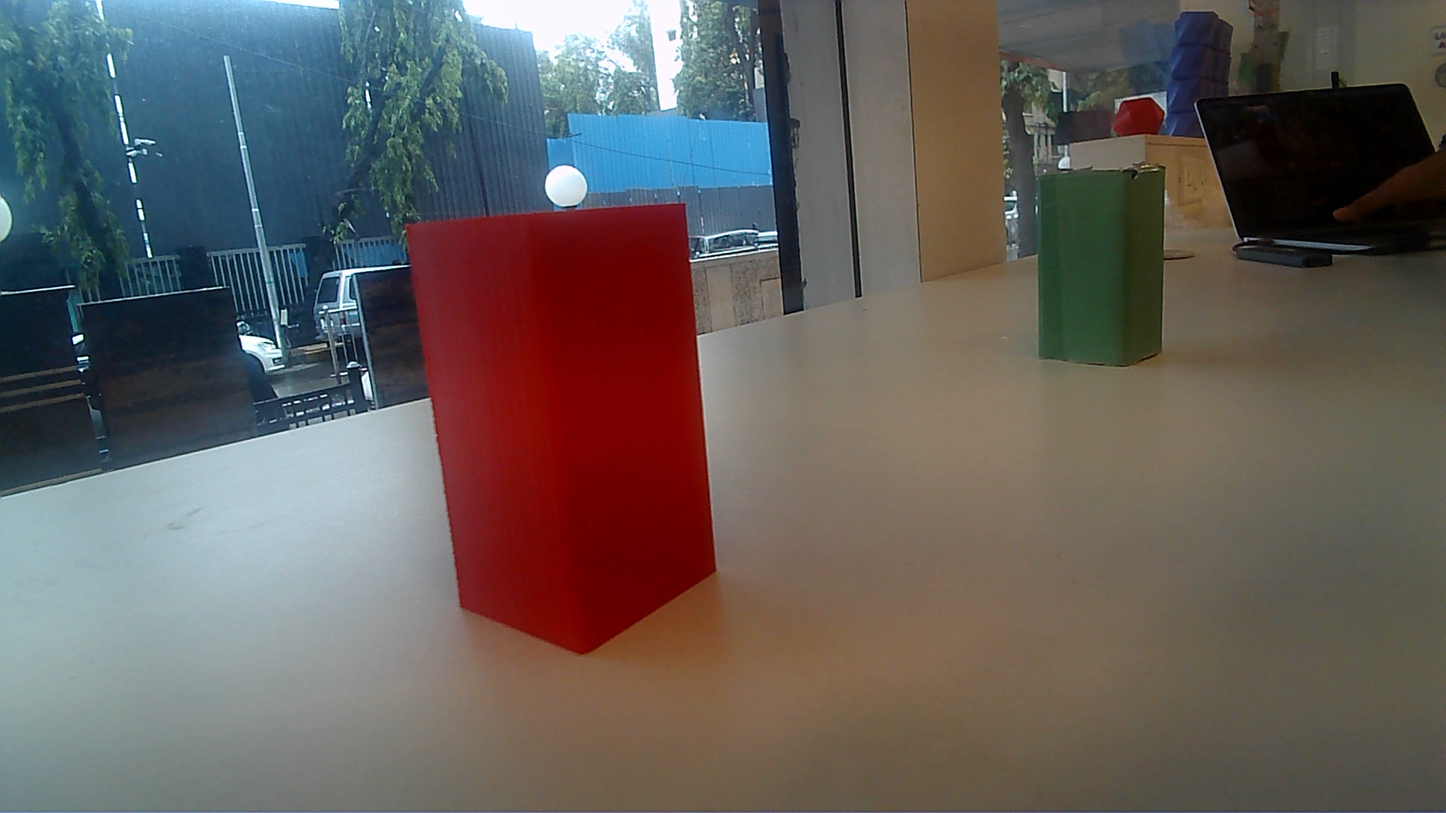red: (384, 203, 786, 644)
